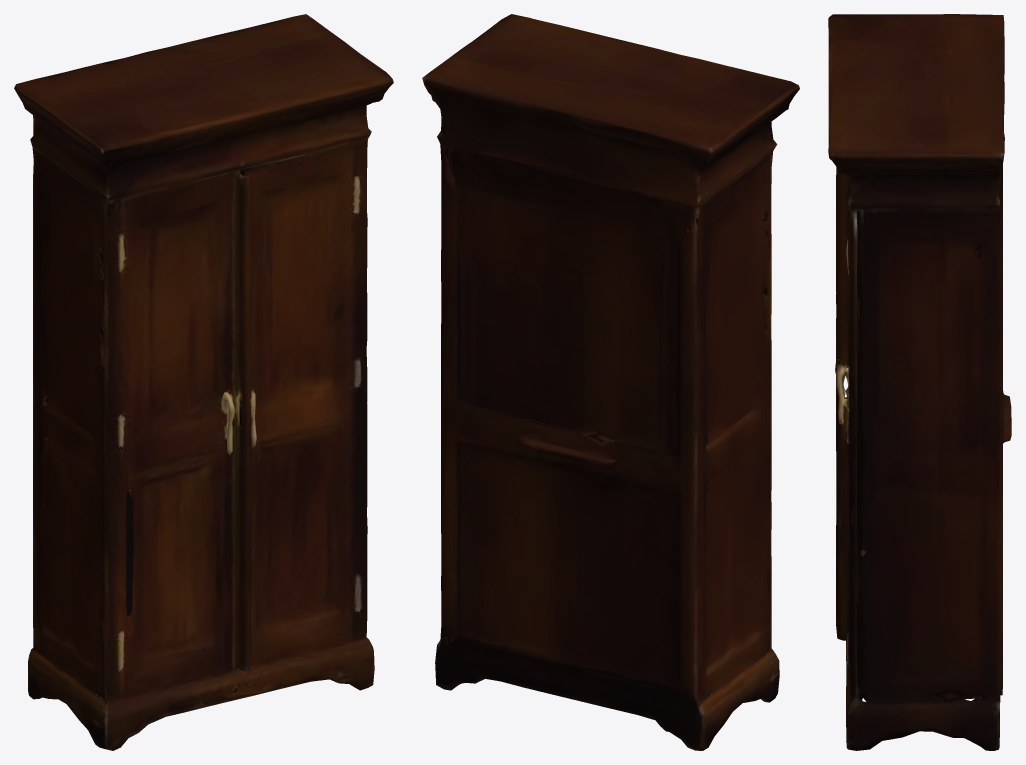
The model's file is ropero.glb.
3 renders of one model, left to right at view 1: azimuth 30°, elevation 25°; view 2: azimuth 150°, elevation 25°; view 3: azimuth 270°, elevation 25°, orthographic.
Parts seen in each view (by area): view 1: geometry_0; view 2: geometry_0; view 3: geometry_0.
Boxes of the visible parts, x1=… form: geometry_0: x1=14, y1=14, x2=393, y2=750; geometry_0: x1=422, y1=14, x2=799, y2=750; geometry_0: x1=828, y1=14, x2=1011, y2=750.
Bounding box in the file's own units: 1 × 2 × 0.5498.
1 material, 1 textured.
